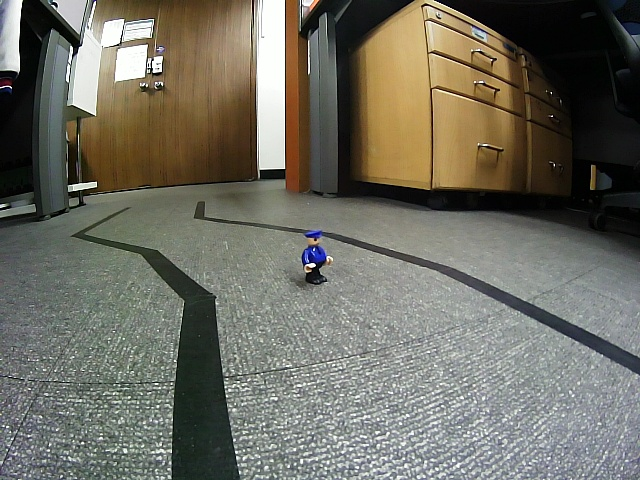person: (302, 231, 332, 286)
